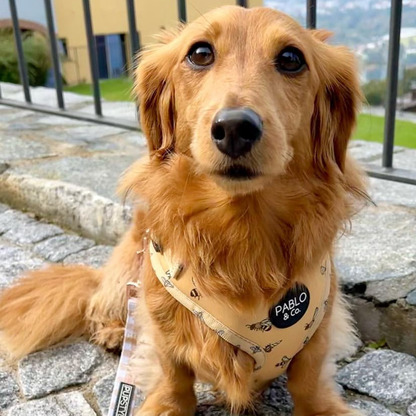dachshund: (104, 13, 374, 397)
